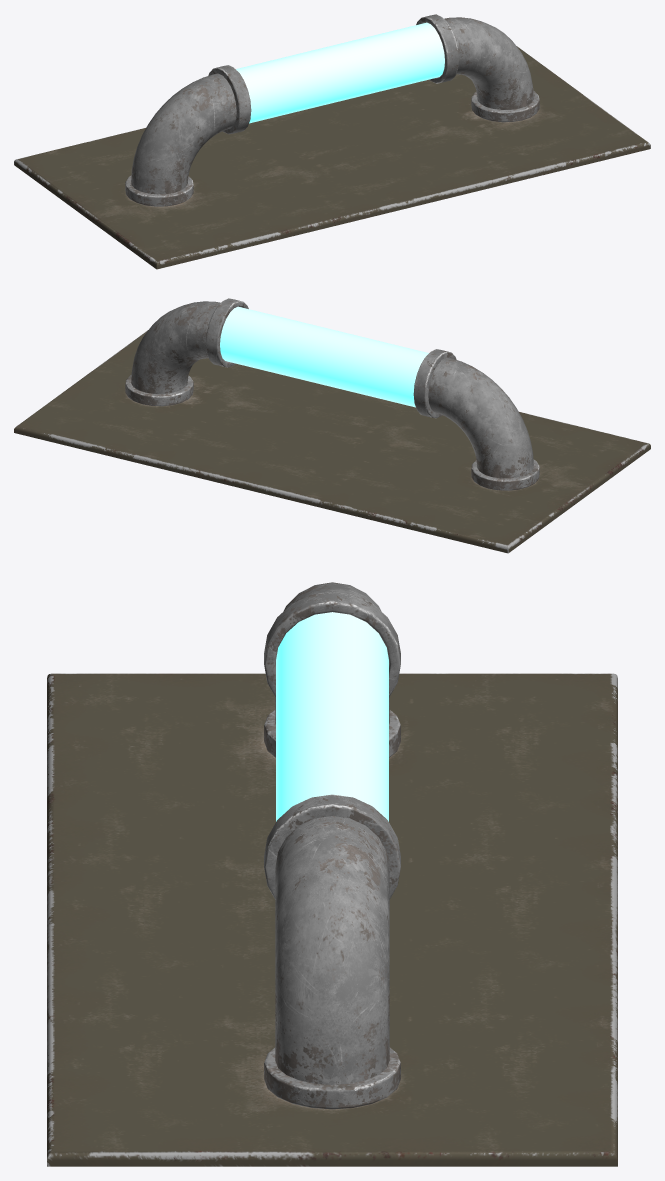
File: NeonPipe.gltf
3 views of the same model, one above another, from view 1: azimuth 30°, elevation 25°; view 2: azimuth 150°, elevation 25°; view 3: azimuth 270°, elevation 25° (orthographic). The views are drawn at different scales.
Visible parts, largest first — view 1: Wall, Light; view 2: Wall, Light; view 3: Wall, Light.
Boxes of the visible parts, left/top/right/bottom form: Wall: left=14, top=46, right=650, bottom=269; Light: left=125, top=14, right=539, bottom=206; Wall: left=14, top=330, right=650, bottom=553; Light: left=125, top=298, right=539, bottom=490; Wall: left=47, top=673, right=617, bottom=1166; Light: left=264, top=582, right=400, bottom=1109.
Size of the model in its own units: 20 by 4.4 by 10.
2 materials, 2 textured.
